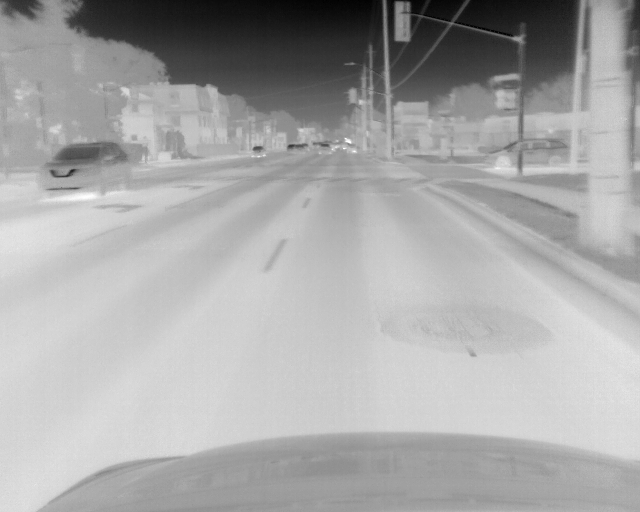car: (38, 142, 134, 197), (484, 137, 574, 169), (250, 145, 267, 159), (287, 144, 306, 154), (319, 143, 333, 155), (345, 143, 356, 154), (333, 140, 340, 149)
